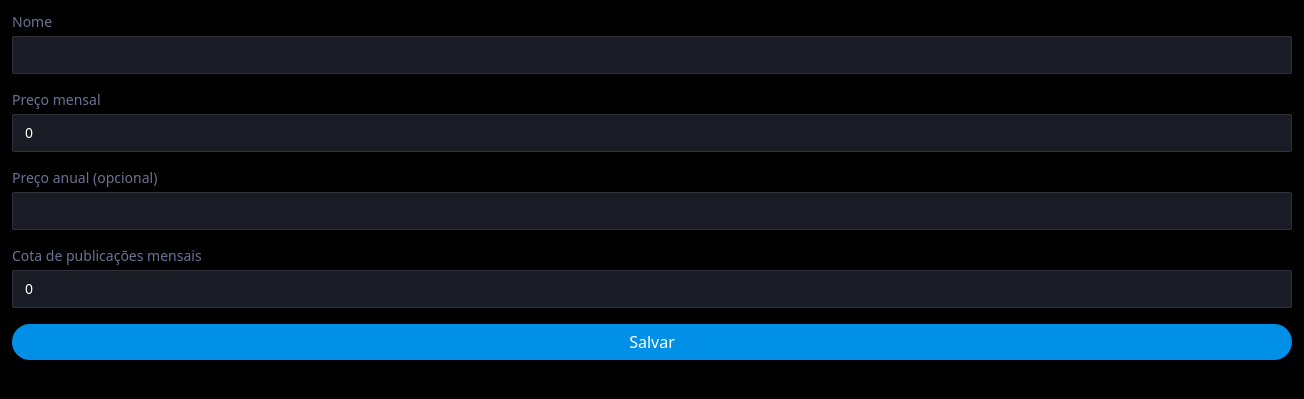
Test: PlanForm › GIVEN publish_quota left empty WHEN submitted THEN it blocks submit with a field-specific pt-BR error
Type "Pro" into the field labelled "Nome". click: (652, 55)
box: [12, 36, 1292, 74]
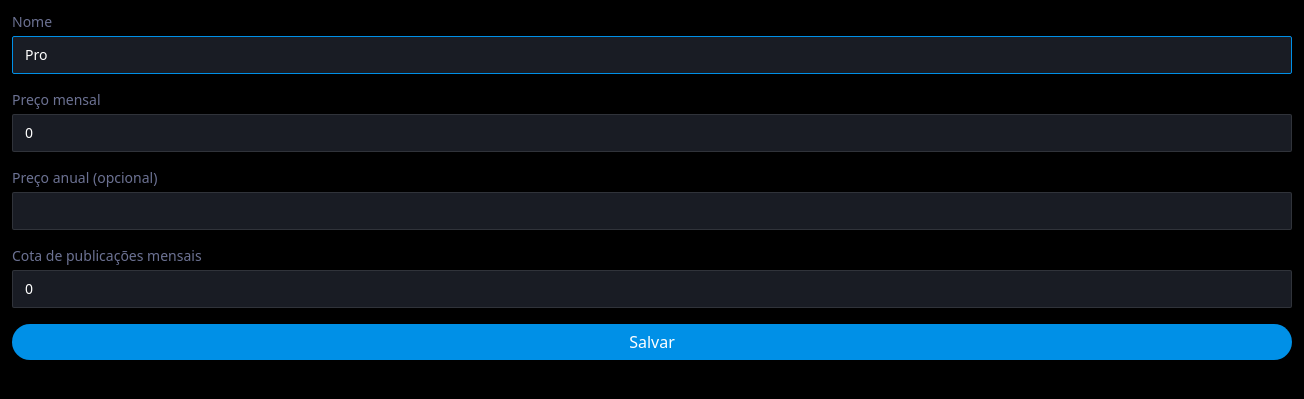
Clear the number field labelled "Cota de publicações mensais". click: (652, 289)
box: [12, 270, 1292, 308]
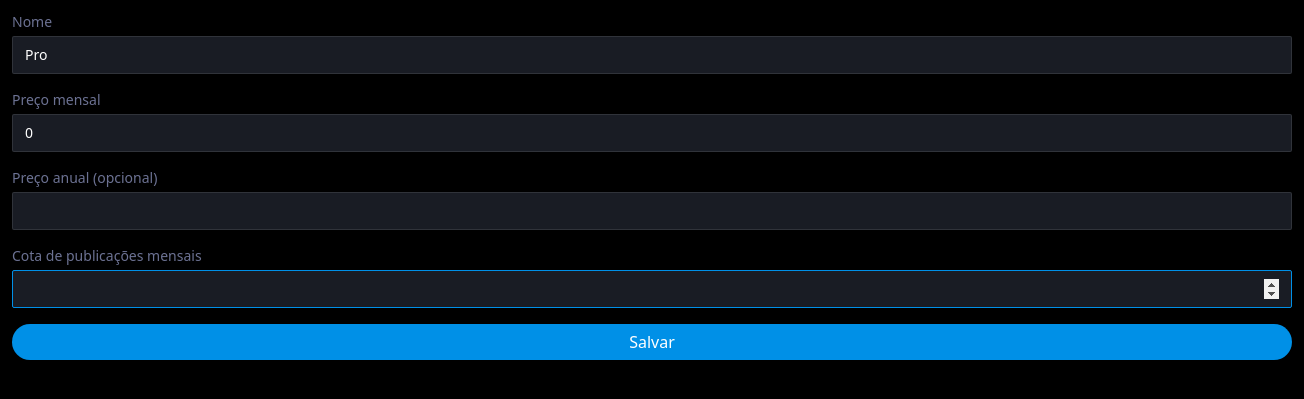
Click the button "Salvar". click: (652, 342)
box: [12, 324, 1292, 360]
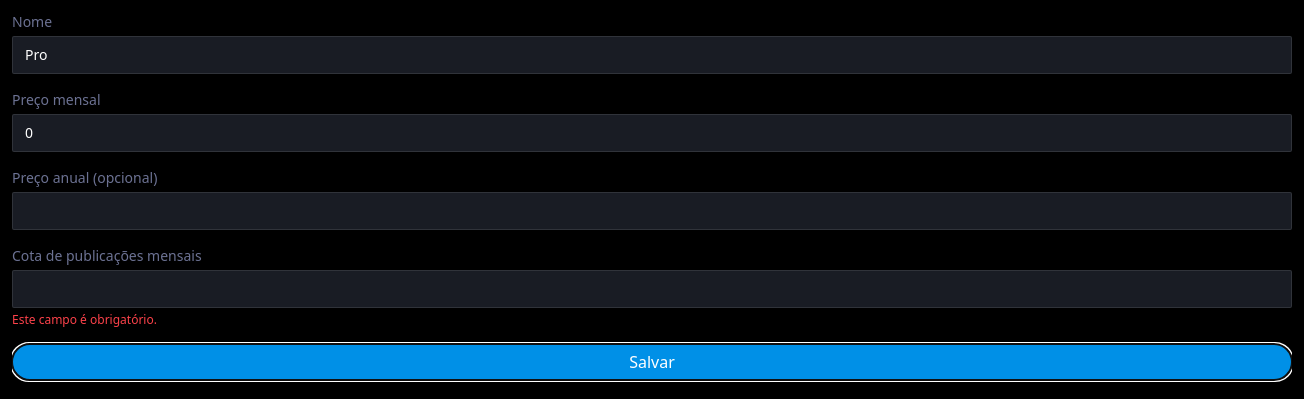
Expected: the element labelled "Cota de publicações mensais" shows "Este campo é obrigatório.", [12, 311, 157, 328]
